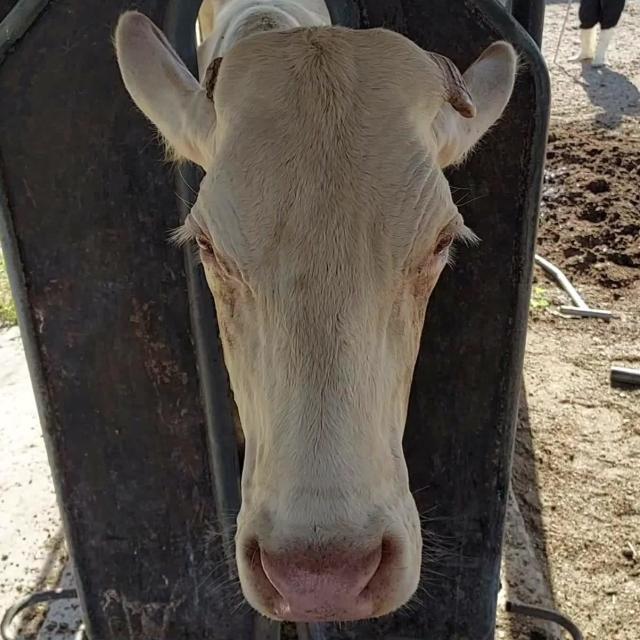cowFace: (195, 29, 462, 624)
